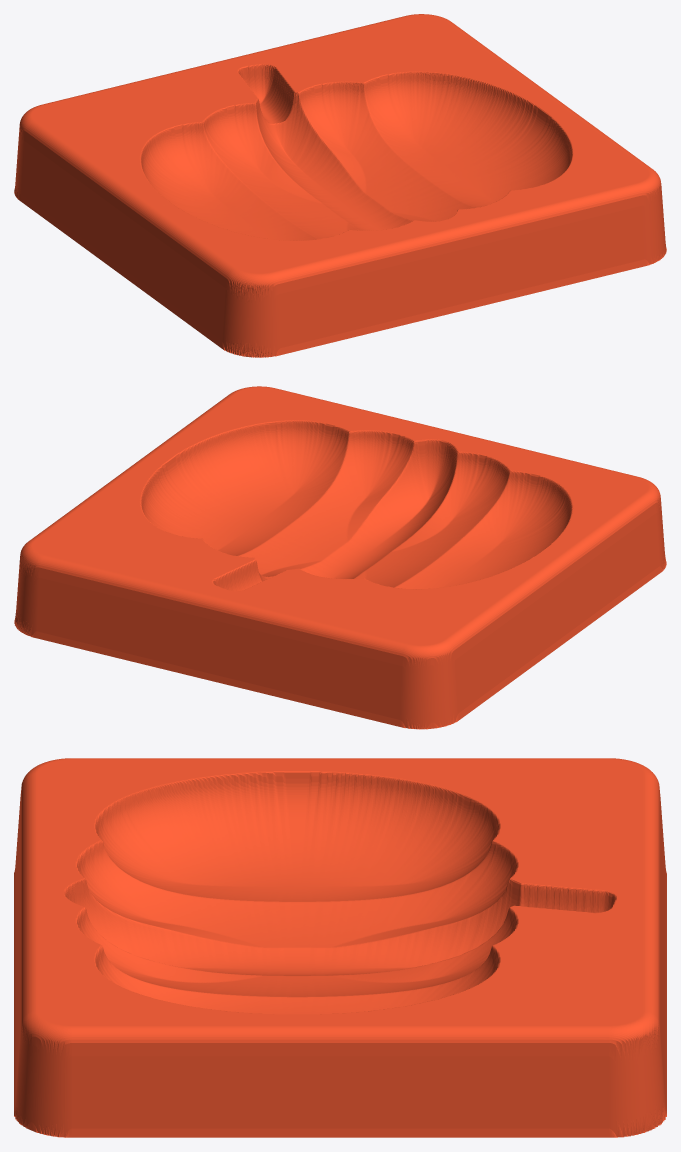
File: mold.glb
3 views of the same model, one above another, from view 1: azimuth 30°, elevation 25°; view 2: azimuth 150°, elevation 25°; view 3: azimuth 270°, elevation 25° (orthographic). The views are drawn at different scales.
Visible parts, largest first — view 1: geometry_0; view 2: geometry_0; view 3: geometry_0.
Boxes of the visible parts, left/top/right/bottom form: geometry_0: left=14, top=14, right=666, bottom=357; geometry_0: left=14, top=386, right=666, bottom=729; geometry_0: left=14, top=758, right=666, bottom=1137.
Bounding box in the file's own units: 0.105 × 0.0175 × 0.1014.
